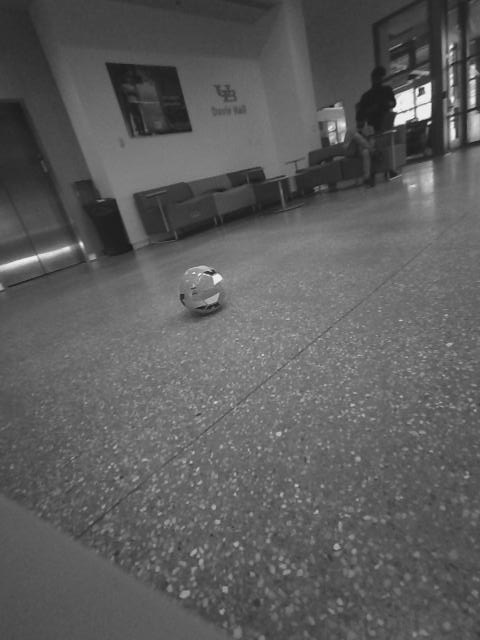ball: (171, 256, 239, 322)
